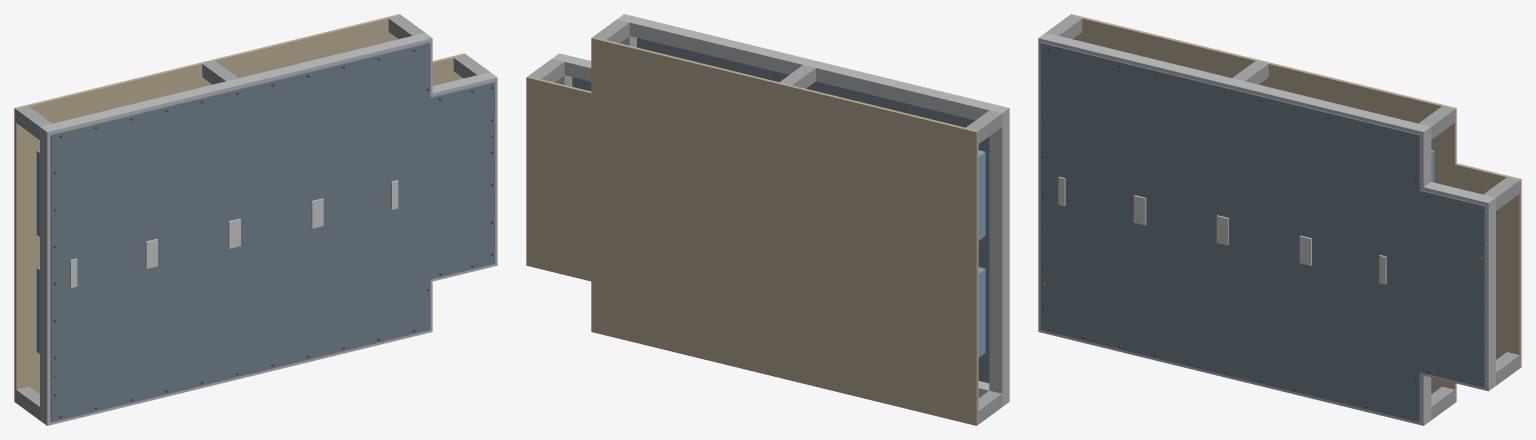
Rendered from battery_replacement.glb.
3 views of the same model, side by side, from view 1: azimuth 30°, elevation 25°; view 2: azimuth 150°, elevation 25°; view 3: azimuth 330°, elevation 25° (orthographic).
Parts seen in each view (by area): view 1: lid_main, base_plate_0, lid_step, profile_long_plus, profile_left, profile_long_minus, profile_right, post_1, base_plate_1, profile_step_h_plus, post_0, post_5 (+2 smaller); view 2: base_plate_0, base_plate_1, profile_long_plus, profile_left, lid_main, module_1, module_2, post_1, post_0, profile_step_h_plus, post_5, post_3 (+1 smaller); view 3: lid_main, lid_step, base_plate_0, base_plate_1, profile_long_plus, profile_right, profile_long_minus, profile_left, post_7, post_5, profile_step_h_plus, post_4 (+4 smaller).
Boxes of the visible parts, bbox=[...] form: lid_main: bbox=[50, 42, 430, 422]; base_plate_0: bbox=[14, 14, 400, 402]; lid_step: bbox=[430, 81, 495, 279]; profile_long_plus: bbox=[40, 32, 432, 145]; profile_left: bbox=[40, 140, 50, 412]; profile_long_minus: bbox=[40, 318, 432, 425]; profile_right: bbox=[477, 72, 497, 268]; post_1: bbox=[16, 106, 52, 139]; base_plate_1: bbox=[432, 53, 465, 85]; profile_step_h_plus: bbox=[430, 75, 484, 96]; post_0: bbox=[16, 386, 39, 420]; post_5: bbox=[388, 15, 424, 38]; base_plate_0: bbox=[591, 37, 978, 425]; base_plate_1: bbox=[526, 76, 591, 281]; profile_long_plus: bbox=[617, 14, 1009, 126]; profile_left: bbox=[989, 122, 1009, 393]; lid_main: bbox=[637, 38, 989, 383]; module_1: bbox=[978, 267, 985, 357]; module_2: bbox=[978, 150, 985, 240]; post_1: bbox=[966, 110, 1002, 143]; post_0: bbox=[978, 390, 1002, 423]; profile_step_h_plus: bbox=[564, 56, 591, 81]; post_5: bbox=[593, 19, 629, 43]; post_3: bbox=[779, 65, 815, 88]; lid_main: bbox=[1040, 42, 1420, 422]; lid_step: bbox=[1419, 190, 1485, 387]; base_plate_0: bbox=[1070, 14, 1456, 402]; base_plate_1: bbox=[1455, 163, 1521, 368]; profile_long_plus: bbox=[1038, 33, 1431, 145]; profile_right: bbox=[1475, 194, 1495, 391]; profile_long_minus: bbox=[1038, 318, 1431, 425]; profile_left: bbox=[1038, 51, 1040, 318]; post_7: bbox=[1483, 177, 1519, 210]; post_5: bbox=[1419, 106, 1454, 139]; profile_step_h_plus: bbox=[1420, 182, 1482, 203]; post_4: bbox=[1431, 386, 1454, 419].
Size of the model in its own units: 1402 by 874 by 188.
